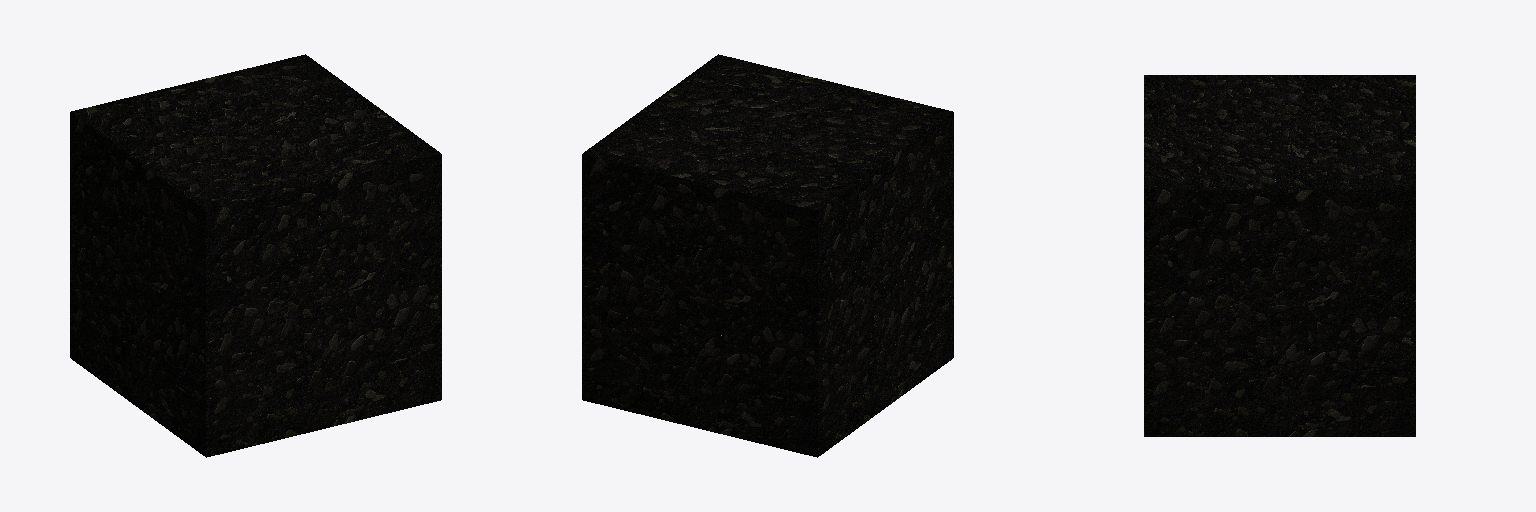
3 views of the same model, side by side, from view 1: azimuth 30°, elevation 25°; view 2: azimuth 150°, elevation 25°; view 3: azimuth 270°, elevation 25° (orthographic).
Parts seen in each view (by area): view 1: cube; view 2: cube; view 3: cube.
Boxes of the visible parts, box(x1,y1,x2,y2) form: cube: box(70, 54, 441, 457); cube: box(582, 54, 953, 457); cube: box(1144, 75, 1415, 436).
Bounding box in the file's own units: 1 × 1 × 1.
1 materials, 1 textured.